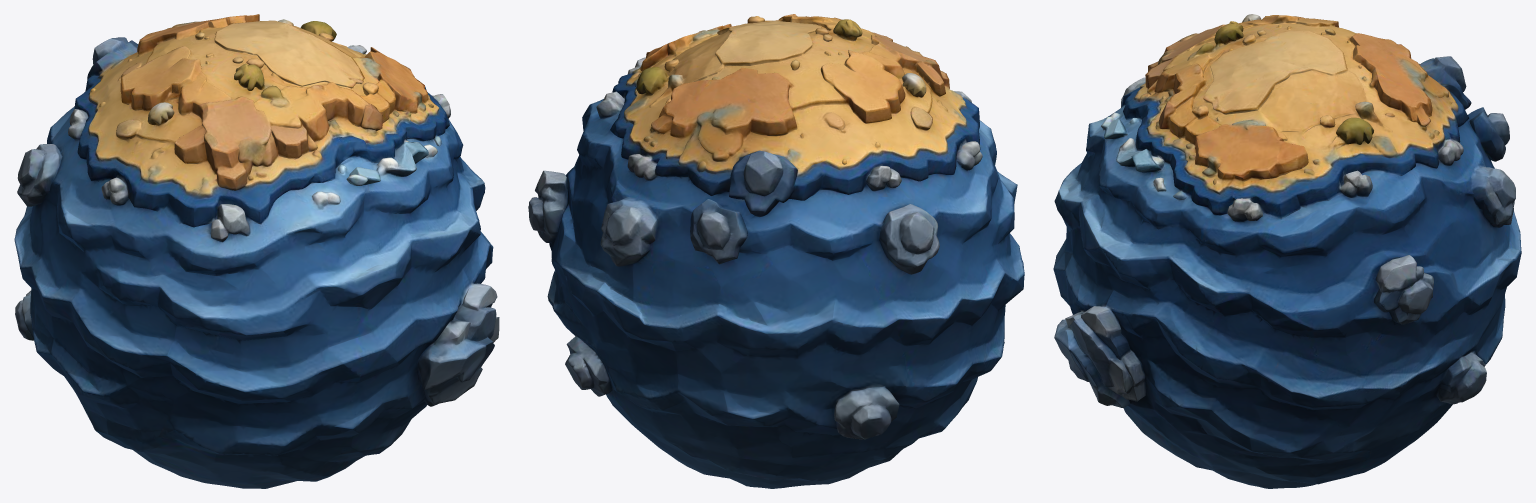
Rendered from merchant_planet_base.glb.
3 renders of one model, left to right at view 1: azimuth 30°, elevation 25°; view 2: azimuth 150°, elevation 25°; view 3: azimuth 270°, elevation 25°, orthographic. The views are drawn at different scales.
Visible parts, largest first — view 1: tripo_node_f678dfd0-e39e-4695-b012-30156dd8d67e; view 2: tripo_node_f678dfd0-e39e-4695-b012-30156dd8d67e; view 3: tripo_node_f678dfd0-e39e-4695-b012-30156dd8d67e.
Boxes of the visible parts, x1,y1,x2,y2 form: tripo_node_f678dfd0-e39e-4695-b012-30156dd8d67e: (14,14,499,488); tripo_node_f678dfd0-e39e-4695-b012-30156dd8d67e: (528,14,1024,488); tripo_node_f678dfd0-e39e-4695-b012-30156dd8d67e: (1053,14,1521,488).
Bounding box in the file's own units: 1 × 0.9885 × 0.9843.
1 material, 1 textured.
